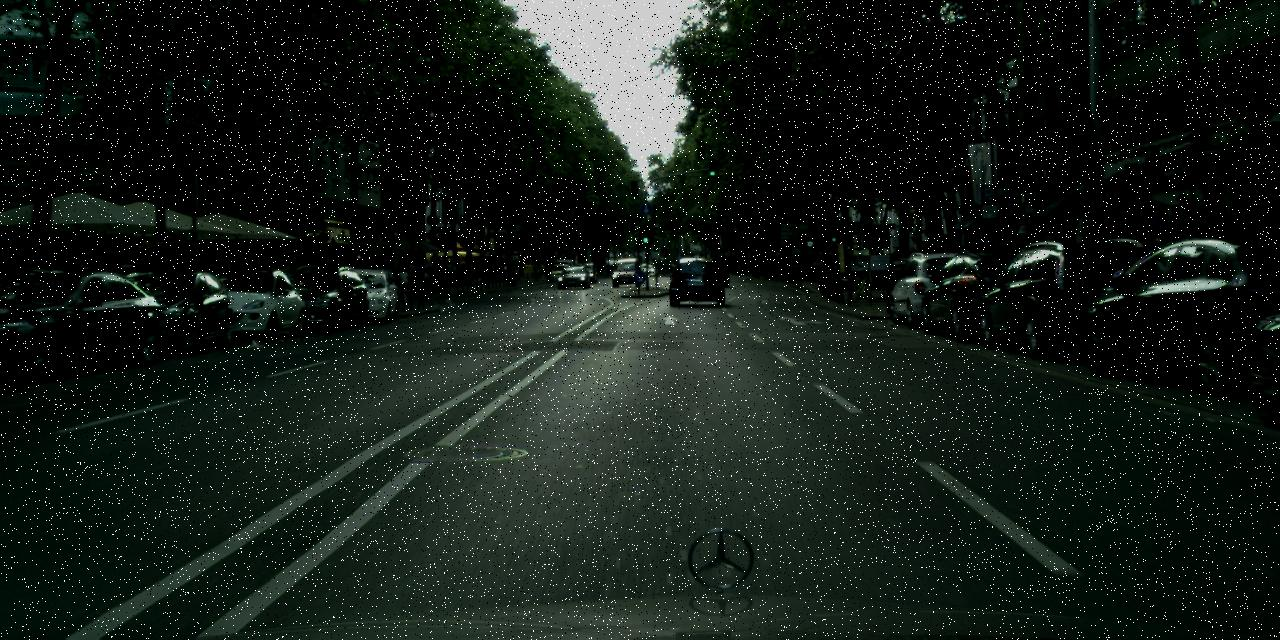ped: (0, 256, 20, 310), (104, 257, 124, 304), (118, 257, 138, 304), (1001, 242, 1020, 288), (278, 263, 294, 306)
